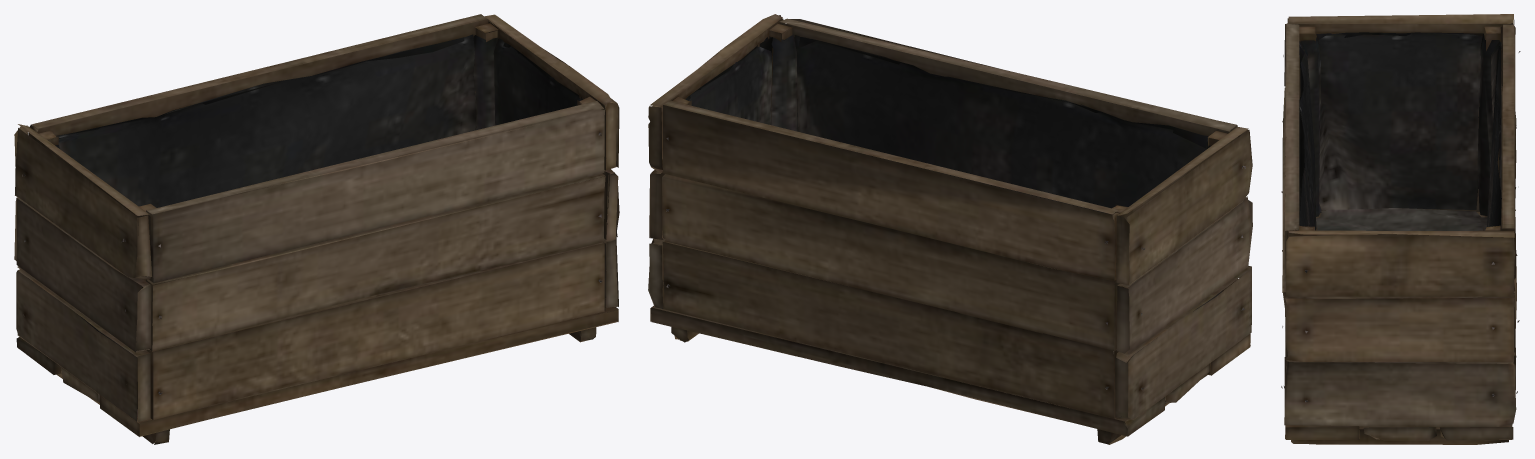
The model's file is planter_box_01_1k.gltf.lod.glb.
3 views of the same model, side by side, from view 1: azimuth 30°, elevation 25°; view 2: azimuth 150°, elevation 25°; view 3: azimuth 270°, elevation 25° (orthographic). The views are drawn at different scales.
Visible parts, largest first — view 1: planter_box_01; view 2: planter_box_01; view 3: planter_box_01.
Part boxes in pixels (x1=…): planter_box_01: x1=14, y1=14, x2=619, y2=444; planter_box_01: x1=648, y1=14, x2=1252, y2=444; planter_box_01: x1=1281, y1=14, x2=1520, y2=444.
Bounding box in the file's own units: 0.9199 × 0.4322 × 0.42.
Materials: 1 (1 with a texture image).
